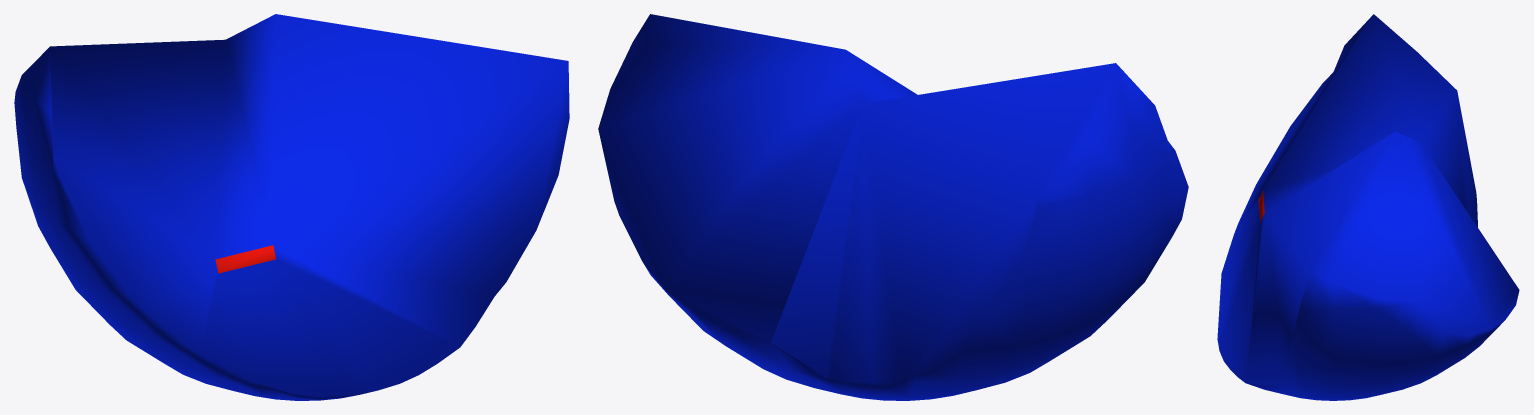
Rendered from Orbe_PlayStation_F3.fbx.
3 renders of one model, left to right at view 1: azimuth 30°, elevation 25°; view 2: azimuth 150°, elevation 25°; view 3: azimuth 270°, elevation 25°, orthographic. The views are drawn at different scales.
Parts seen in each view (by area): view 1: Orbe_PlayStation_F3; view 2: Orbe_PlayStation_F3; view 3: Orbe_PlayStation_F3.
Part boxes in pixels (bbox=[...]): Orbe_PlayStation_F3: bbox=[14, 14, 569, 400]; Orbe_PlayStation_F3: bbox=[598, 14, 1188, 400]; Orbe_PlayStation_F3: bbox=[1217, 14, 1519, 400].
Size of the model in its own units: 199 by 138 by 135.
